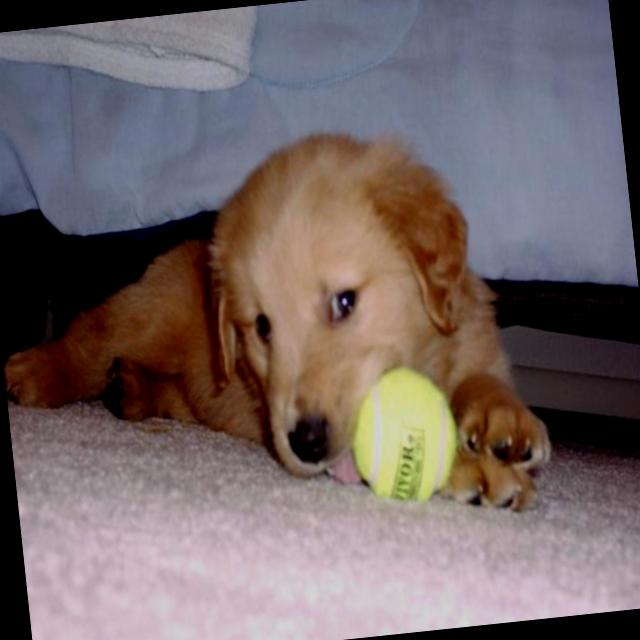Tennis ball: (346, 362, 462, 509)
